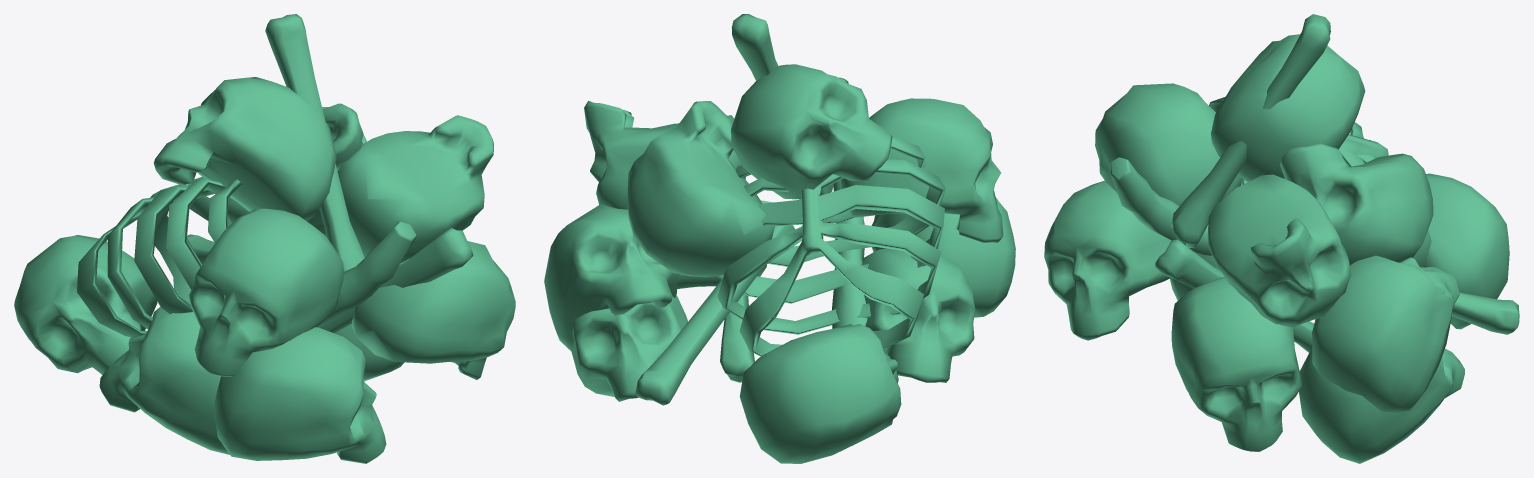
The model's file is Bones_Pile_01_Lod0.fbx.
3 views of the same model, side by side, from view 1: azimuth 30°, elevation 25°; view 2: azimuth 150°, elevation 25°; view 3: azimuth 270°, elevation 25° (orthographic). The views are drawn at different scales.
Parts seen in each view (by area): view 1: Bones_Pile_01_Lod0; view 2: Bones_Pile_01_Lod0; view 3: Bones_Pile_01_Lod0.
Part boxes in pixels (bbox=[...]): Bones_Pile_01_Lod0: bbox=[14, 14, 515, 463]; Bones_Pile_01_Lod0: bbox=[544, 14, 1015, 463]; Bones_Pile_01_Lod0: bbox=[1044, 14, 1519, 463].
Bounding box in the file's own units: 49.12 × 48.12 × 53.27.
